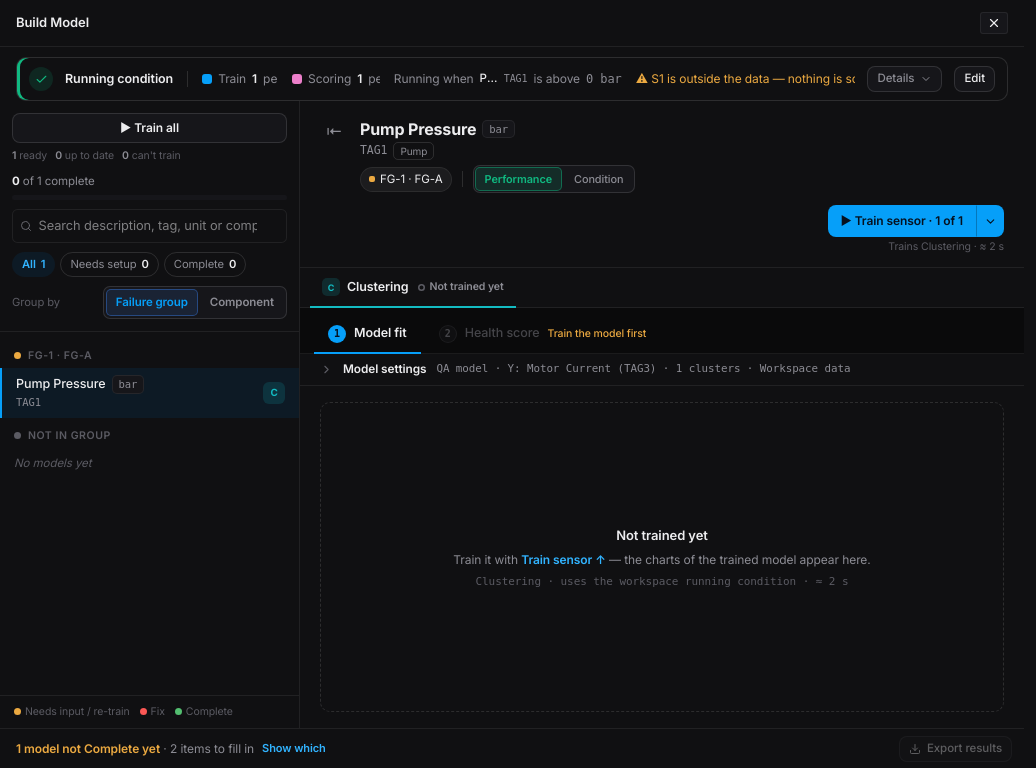
it: (2) a successful Train with no pending draft leaves the model Trained-and-fresh › control: the same clustering model trains fresh once a draft edit is committed with it (the workaround users would stumble on)
The image size is (1036, 768).
Expected: the element with test id "rc-card" is shown, [16,57,1008,101]
Click the text "Model settings": (385, 370) [343,361,426,378]
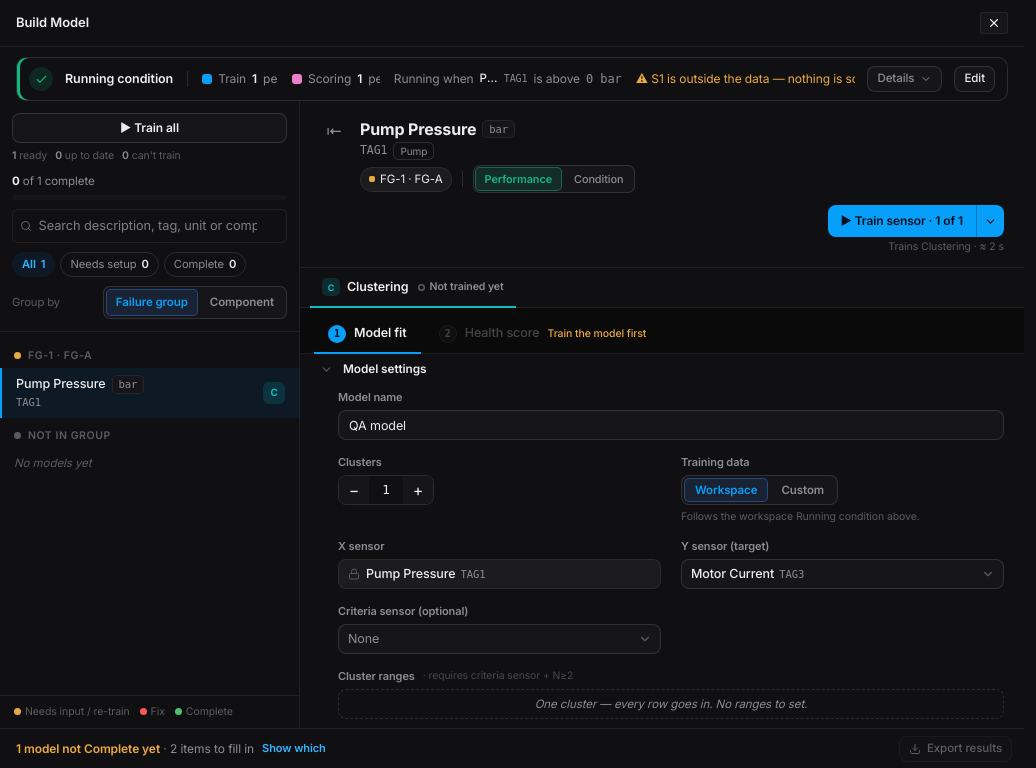
Replace the text in the field with placeholder "e.g. Bearing vibration model" with "QA model edited": (671, 426) [338,410,1004,440]
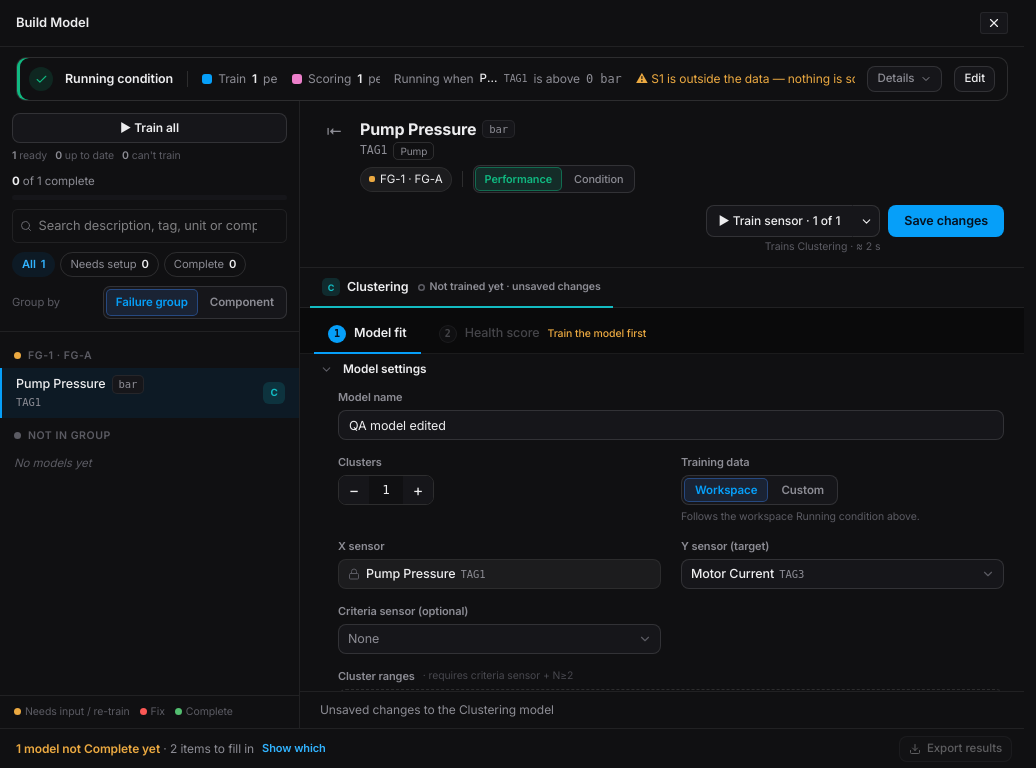
Click the button with test id "train-sensor": (780, 221) [706,205,853,237]
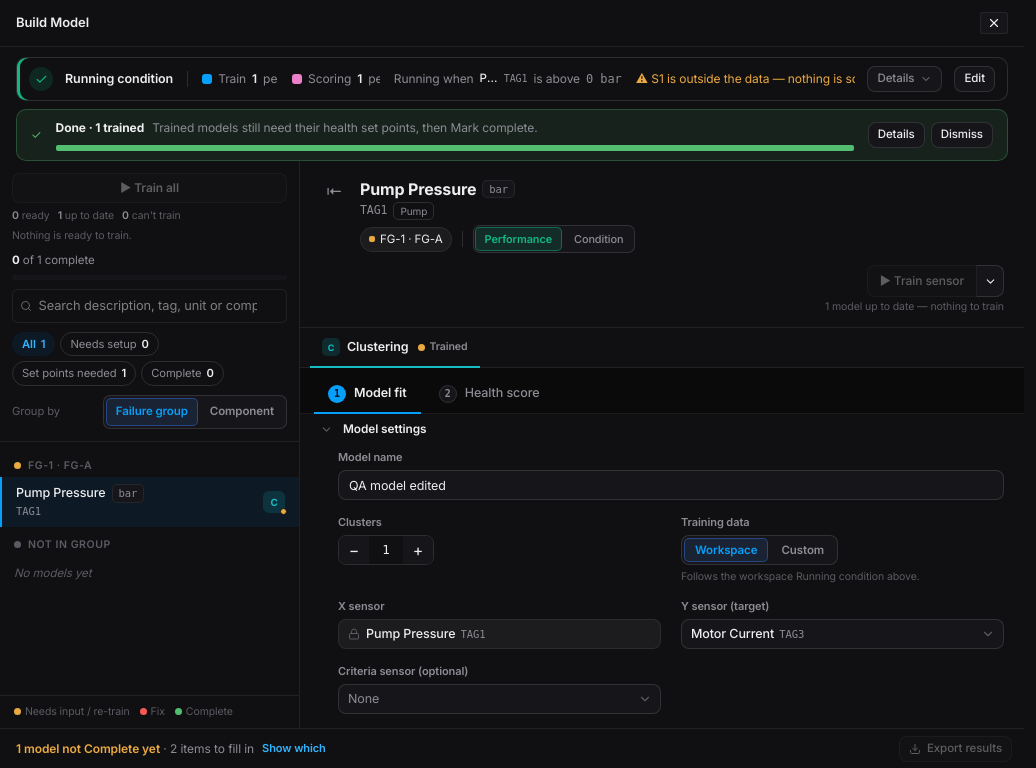
Now the text with test id "tab-words-" reads "Trained", box [430,340,468,353]
